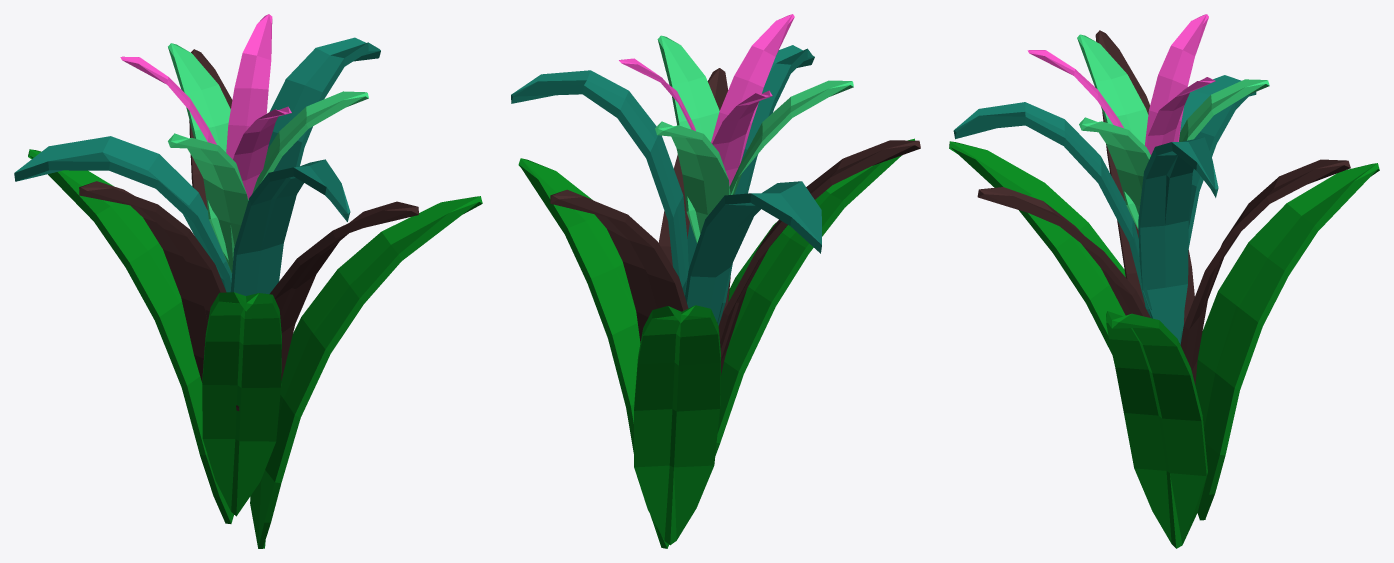
Rendered from ShrubRedJungleFlower01.fbx.
3 views of the same model, side by side, from view 1: azimuth 30°, elevation 25°; view 2: azimuth 150°, elevation 25°; view 3: azimuth 270°, elevation 25° (orthographic). The views are drawn at different scales.
Parts seen in each view (by area): view 1: ShrubRedJungleFlower01_LOD0; view 2: ShrubRedJungleFlower01_LOD0; view 3: ShrubRedJungleFlower01_LOD0.
Boxes of the visible parts, left/top/right/bottom form: ShrubRedJungleFlower01_LOD0: left=14, top=14, right=482, bottom=548; ShrubRedJungleFlower01_LOD0: left=511, top=14, right=920, bottom=548; ShrubRedJungleFlower01_LOD0: left=949, top=14, right=1379, bottom=548.
Size of what is drawn, in the model's own units: 186 by 222 by 181.
